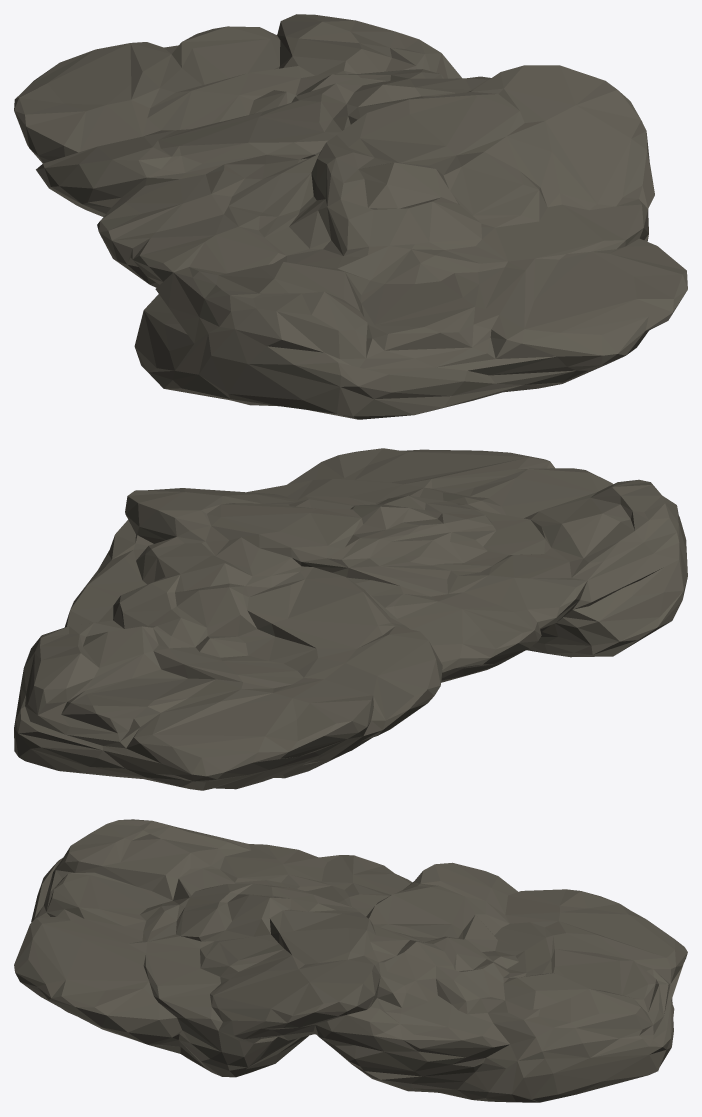
File: synty-rock-cluster-large-06.gltf
The picture shows the model from 3 angles, top to bottom: view 1: azimuth 30°, elevation 25°; view 2: azimuth 150°, elevation 25°; view 3: azimuth 270°, elevation 25°; orthographic projection. The views are drawn at different scales.
Visible parts, largest first — view 1: SM_Rock_Cluster_Large_06; view 2: SM_Rock_Cluster_Large_06; view 3: SM_Rock_Cluster_Large_06.
Part boxes in pixels (x1,y1,x2,y2): SM_Rock_Cluster_Large_06: (14,14,687,419); SM_Rock_Cluster_Large_06: (14,448,687,790); SM_Rock_Cluster_Large_06: (14,819,687,1102).
Size of the model in its own units: 27.5 by 8.39 by 38.95.
Materials: 1 (1 with a texture image).
